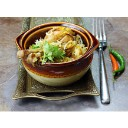briyani: (22, 31, 78, 62)
